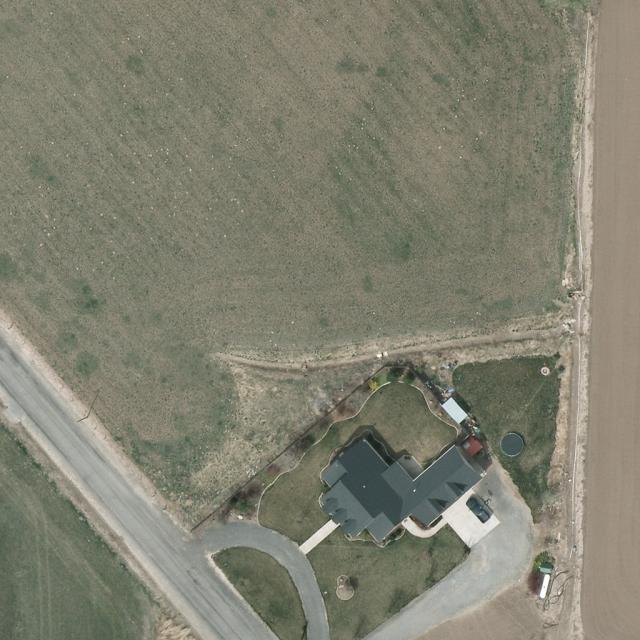vehicle: (464, 496, 492, 526)
